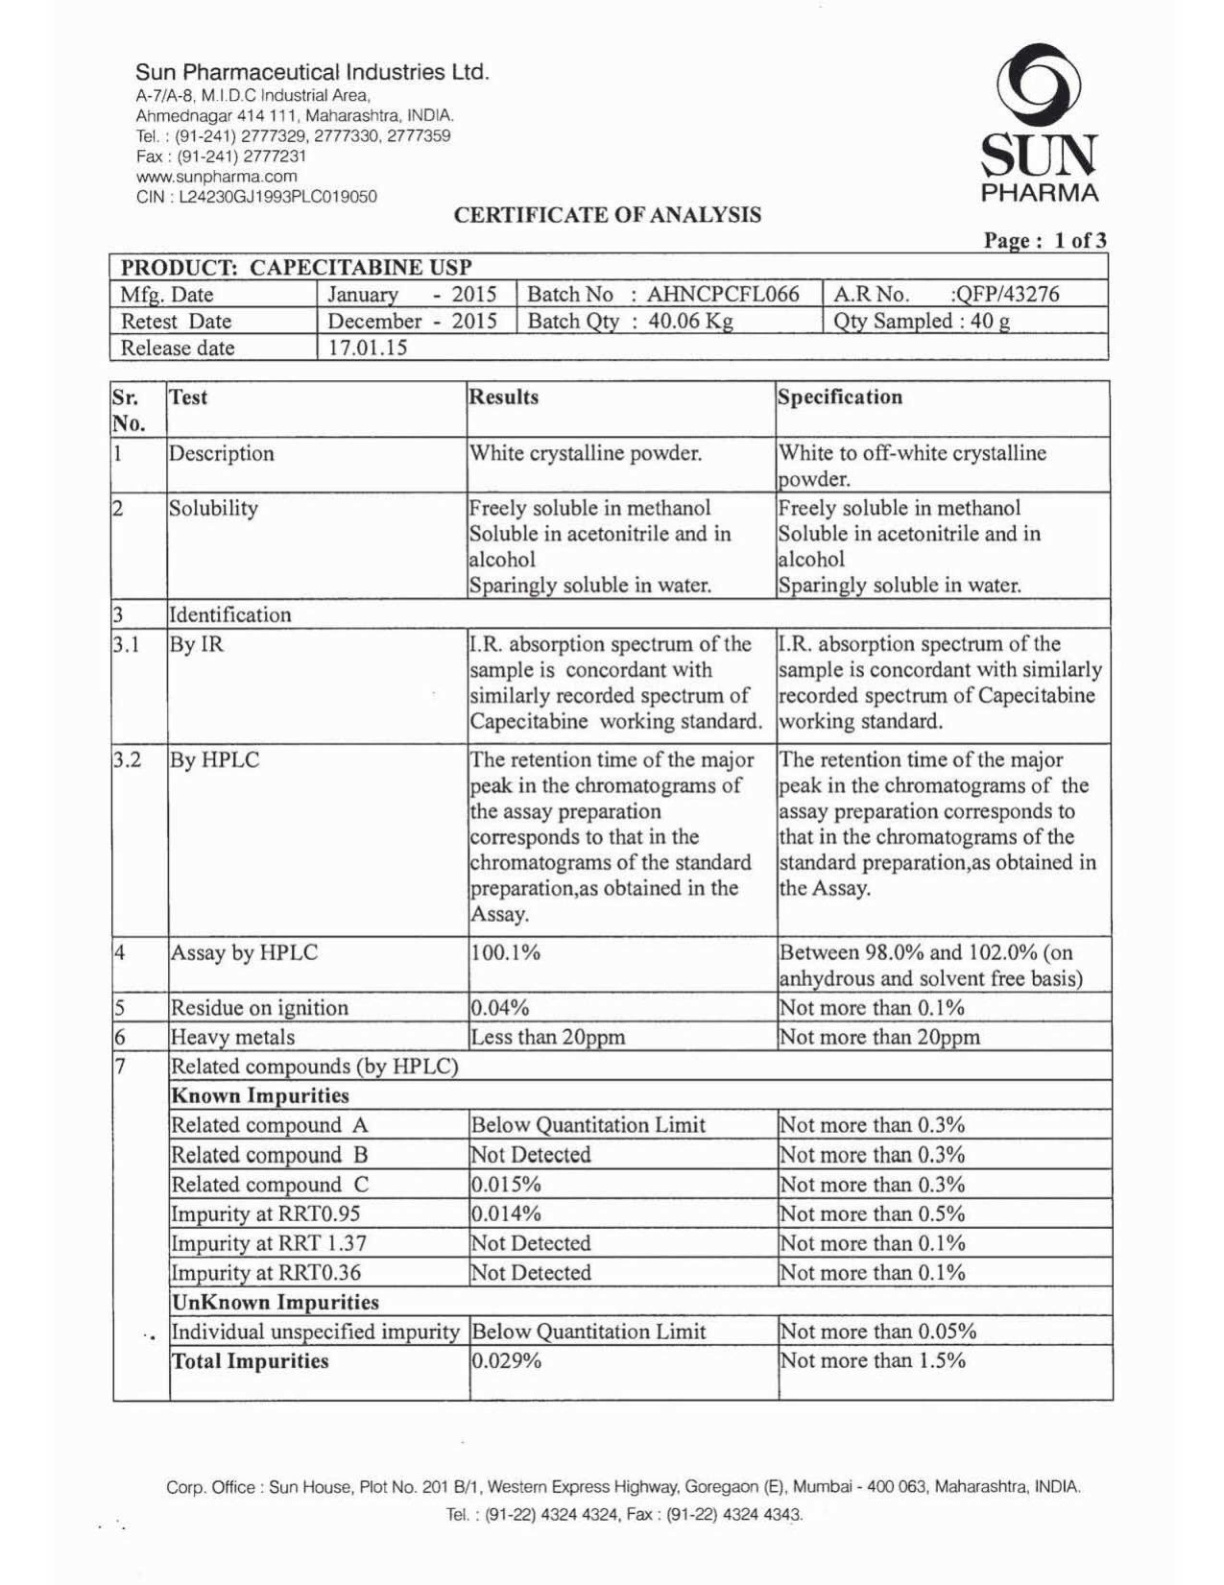merged_cells: (108, 378, 1115, 1402), (108, 251, 1111, 363)
